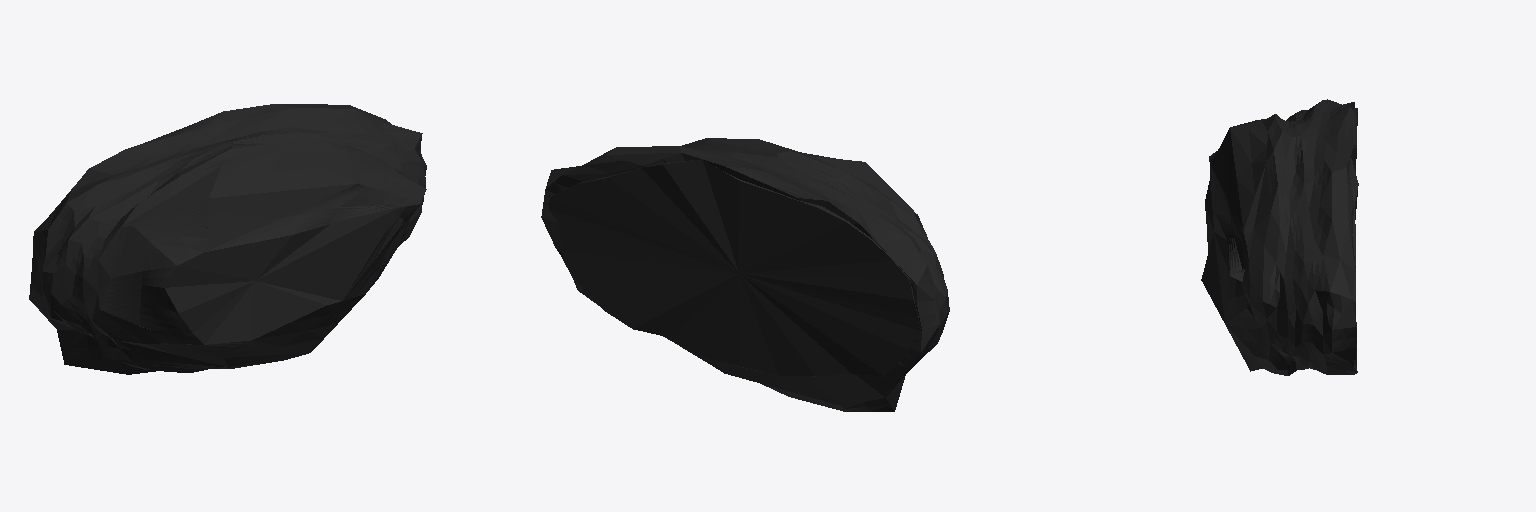
Rendered from rock.obj.
3 views of the same model, side by side, from view 1: azimuth 30°, elevation 25°; view 2: azimuth 150°, elevation 25°; view 3: azimuth 270°, elevation 25° (orthographic).
Visible parts, largest first — view 1: Icosphere; view 2: Icosphere; view 3: Icosphere.
Part boxes in pixels (left/top/right/bottom): Icosphere: left=29, top=104, right=426, bottom=374; Icosphere: left=541, top=138, right=949, bottom=411; Icosphere: left=1201, top=99, right=1358, bottom=375.
Size of the model in its own units: 4.34 by 2.43 by 1.5.